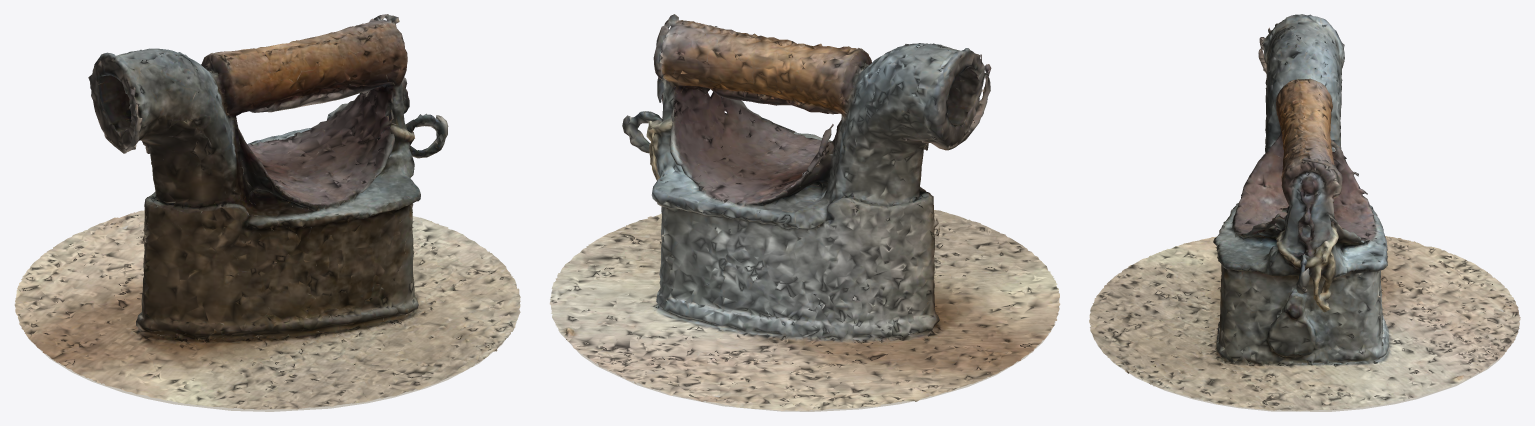
File: plancha.glb
3 views of the same model, side by side, from view 1: azimuth 30°, elevation 25°; view 2: azimuth 150°, elevation 25°; view 3: azimuth 270°, elevation 25° (orthographic). The views are drawn at different scales.
Parts seen in each view (by area): view 1: objeto, base_rellenada; view 2: objeto, base_rellenada; view 3: objeto, base_rellenada.
Part boxes in pixels (<box>): objeto: <box>14,14,520,409</box>; base_rellenada: <box>19,225,519,411</box>; objeto: <box>549,14,1060,410</box>; base_rellenada: <box>551,307,1058,411</box>; objeto: <box>1089,14,1520,411</box>; base_rellenada: <box>1095,309,1515,411</box>.
Bounding box in the file's own units: 0.1638 × 0.1027 × 0.1635.
2 materials, 1 textured.
